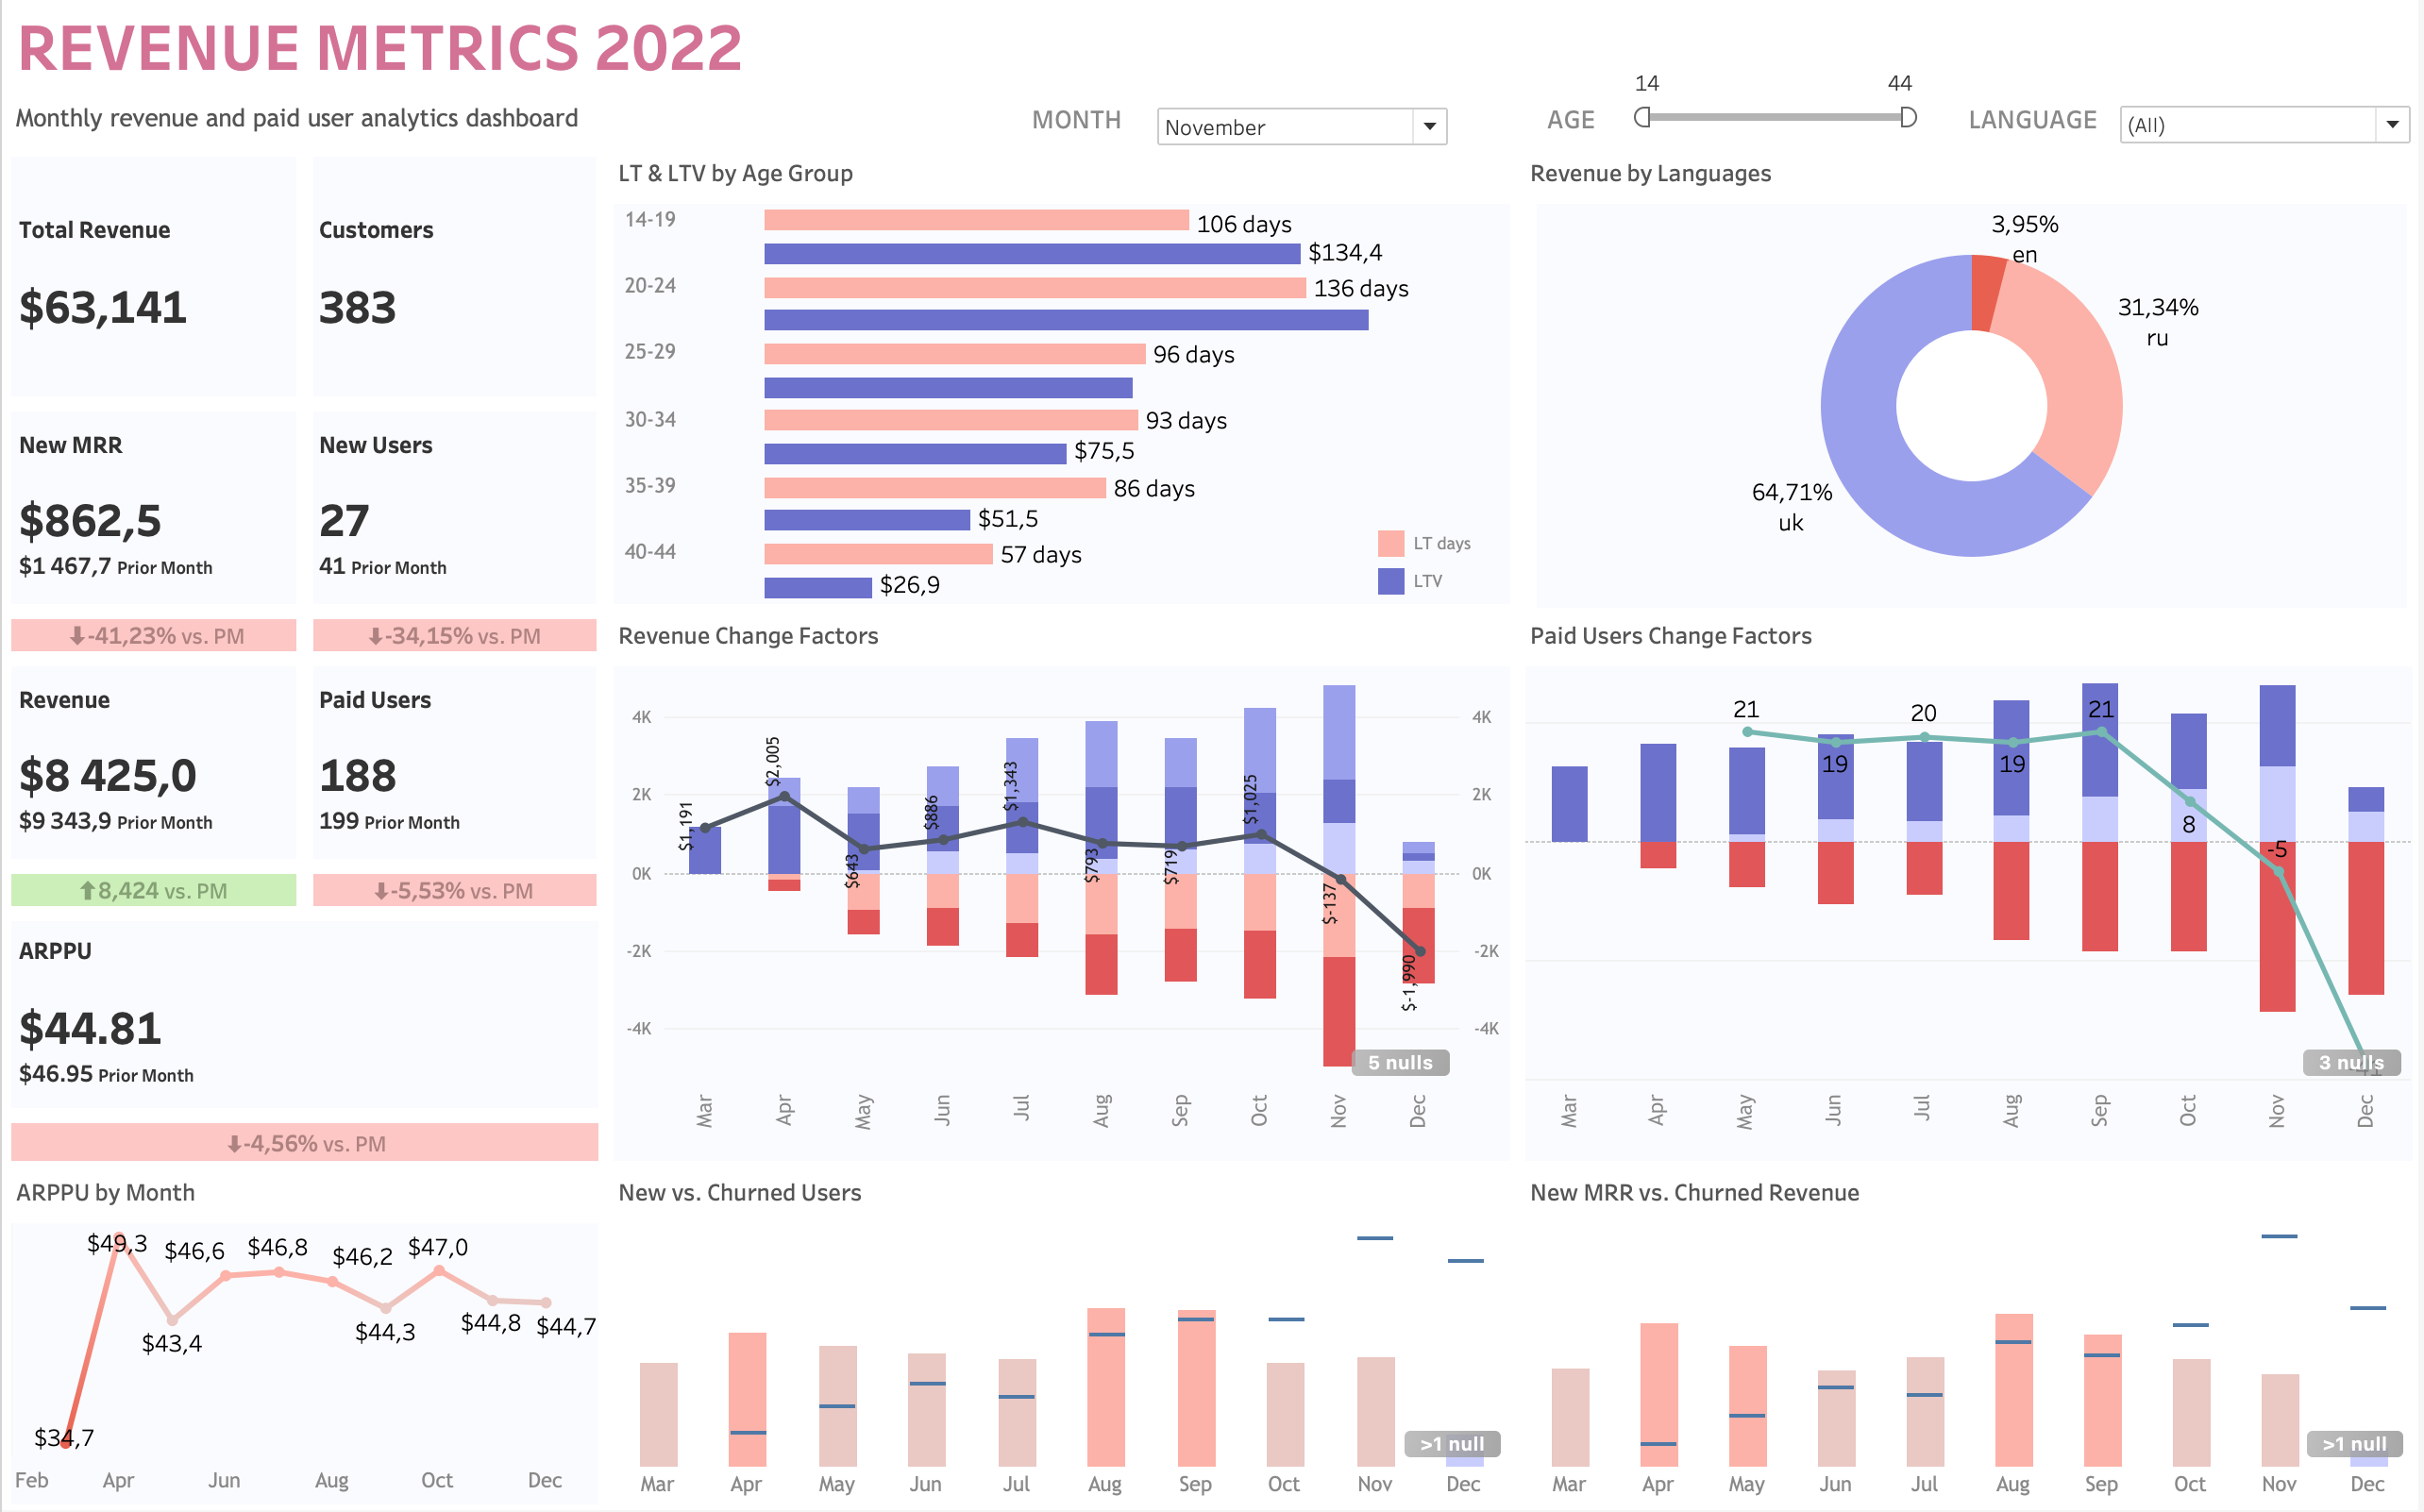

The dashboard page shown, as its layout file describes it:
{"tool":"tableau","page":{"name":"Dashboard 1","canvas":[1280,800],"ordinal":0},"visuals":[{"type":"text","box":[1,1,1280,46]},{"type":"filter","title":"Total Rev","param":"[federated.18bjwjk1bdxpqg1cvxqen1g1p77o].[none:age:qk]","box":[860,31,159,45]},{"type":"text","box":[1,47,399,32]},{"type":"text","box":[400,47,200,32]},{"type":"blank","box":[600,47,101,32]},{"type":"text","box":[701,47,150,32]},{"type":"blank","box":[851,47,101,32]},{"type":"text","box":[952,47,165,32]},{"type":"blank","box":[1117,47,101,32]},{"type":"filter","title":"Total Rev","param":"[federated.18bjwjk1bdxpqg1cvxqen1g1p77o].[none:language:nk]","box":[1119,53,160,26]},{"type":"parameter","param":"[Parameters].[Parameter 3780304350744600]","box":[609,54,160,26]},{"type":"worksheet","title":"Total Rev","mark":"Automatic","box":[1,79,159.5,135]},{"type":"worksheet","title":"Total Users","mark":"Automatic","box":[160.5,79,159.5,135]},{"type":"text","box":[320,79,483,25]},{"type":"text","box":[803,79,478,25]},{"type":"worksheet","title":"LT & LTV","mark":"Automatic","rows":["Calculation_3780304700948554"],"box":[320,104,483,219.9]},{"type":"worksheet","title":"Rev by Language","mark":"Pie","rows":["Calculation_3780304749064275","Calculation_3780304749064275"],"box":[813,108,461,214]},{"type":"worksheet","title":"MRR","mark":"Automatic","box":[1,214,159.5,110]},{"type":"worksheet","title":"New PU","mark":"Automatic","box":[160.5,214,159.5,110]},{"type":"legend","title":"LT & LTV","param":"[federated.18bjwjk1bdxpqg1cvxqen1g1p77o].[:Measure Names]","box":[726,278,140,58]},{"type":"worksheet","title":"MRR btn ","mark":"Square","box":[1,324,159.5,25]},{"type":"worksheet","title":"NPU btn","mark":"Square","box":[160.5,324,159.5,25]},{"type":"text","box":[320,324,483,25]},{"type":"text","box":[803,324,478,25]},{"type":"worksheet","title":"Revenue","mark":"Automatic","box":[1,349,159.5,110]},{"type":"worksheet","title":"Paid Users","mark":"Automatic","box":[160.5,349,159.5,110]},{"type":"worksheet","title":"Revenue Change Factors","mark":"Bar","rows":["Calculation_3780304684892228"],"cols":["Calculation_3780304363962401"],"box":[320,349,483,270]},{"type":"worksheet","title":"Paid Users Change Factors ","mark":"Bar","rows":["Calculation_3780304942030938"],"cols":["Calculation_3780304363962401"],"box":[803,349,478,270]},{"type":"worksheet","title":"Revenue btn ","mark":"Square","box":[1,459,159.5,25]},{"type":"worksheet","title":"Paid Users btn ","mark":"Square","box":[160.5,459,159.5,25]},{"type":"worksheet","title":"ARPPU","mark":"Automatic","box":[1,484,319,107]},{"type":"worksheet","title":"ARPPU btn ","mark":"Square","box":[1,591,319,28]},{"type":"text","box":[1,619,319,25]},{"type":"text","box":[320,619,482.9,25]},{"type":"text","box":[802.9,619,478,25]},{"type":"worksheet","title":"ARPPU bM","mark":"Automatic","rows":["Calculation_3780304003133454"],"cols":["payment_month"],"box":[1,644,319,157]},{"type":"worksheet","title":"New vs Churned users","mark":"Bar","rows":["new_paid_users","churned_users"],"cols":["Calculation_3780304363962401"],"box":[320,644,482.9,157]},{"type":"worksheet","title":"New MRR vs Churned Rev","mark":"Bar","rows":["new_mrr","churned_revenue"],"cols":["Calculation_3780304363962401"],"box":[802.9,644,478,157]}]}

Visuals, with their boxes in screenshot pixels (x1, y1, x2, y2), scaled from the page's 1280x800 canvas onto the 2424x1512 screenshot:
text: (2, 2, 2423, 89)
"Total Rev" filter: (1628, 59, 1929, 143)
text: (2, 89, 757, 149)
text: (757, 89, 1136, 149)
blank: (1136, 89, 1327, 149)
text: (1327, 89, 1611, 149)
blank: (1611, 89, 1803, 149)
text: (1803, 89, 2115, 149)
blank: (2115, 89, 2307, 149)
"Total Rev" filter: (2119, 100, 2422, 149)
parameter: (1153, 102, 1456, 151)
"Total Rev" worksheet: (2, 149, 304, 405)
"Total Users" worksheet: (304, 149, 606, 405)
text: (606, 149, 1521, 196)
text: (1521, 149, 2423, 196)
"LT & LTV" worksheet: (606, 196, 1521, 613)
"Rev by Language" worksheet (Pie marks): (1540, 204, 2413, 609)
"MRR" worksheet: (2, 405, 304, 613)
"New PU" worksheet: (304, 405, 606, 613)
"LT & LTV" legend: (1375, 526, 1640, 635)
"MRR btn " worksheet (Square marks): (2, 613, 304, 660)
"NPU btn" worksheet (Square marks): (304, 613, 606, 660)
text: (606, 613, 1521, 660)
text: (1521, 613, 2423, 660)
"Revenue" worksheet: (2, 660, 304, 867)
"Paid Users" worksheet: (304, 660, 606, 867)
"Revenue Change Factors" worksheet (Bar marks): (606, 660, 1521, 1170)
"Paid Users Change Factors " worksheet (Bar marks): (1521, 660, 2423, 1170)
"Revenue btn " worksheet (Square marks): (2, 867, 304, 915)
"Paid Users btn " worksheet (Square marks): (304, 867, 606, 915)
"ARPPU" worksheet: (2, 915, 606, 1117)
"ARPPU btn " worksheet (Square marks): (2, 1117, 606, 1170)
text: (2, 1170, 606, 1218)
text: (606, 1170, 1521, 1218)
text: (1521, 1170, 2423, 1218)
"ARPPU bM" worksheet: (2, 1218, 606, 1511)
"New vs Churned users" worksheet (Bar marks): (606, 1218, 1521, 1511)
"New MRR vs Churned Rev" worksheet (Bar marks): (1521, 1218, 2423, 1511)
